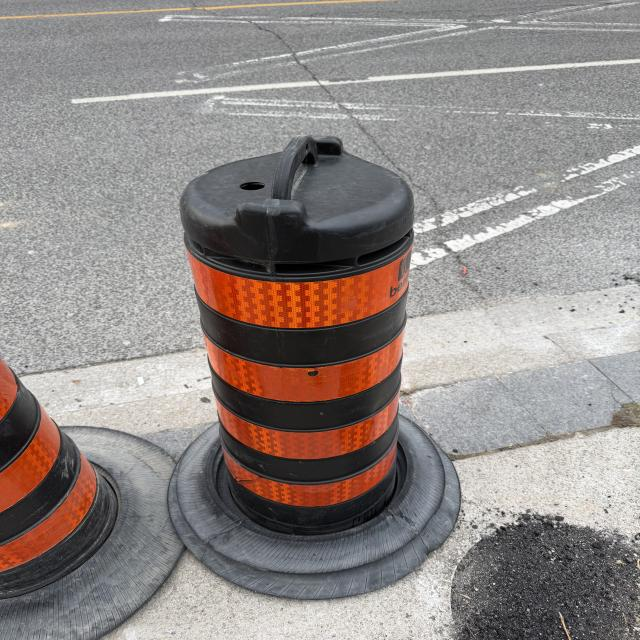Teraffic Barrel: (170, 136, 459, 598), (0, 359, 182, 640)
